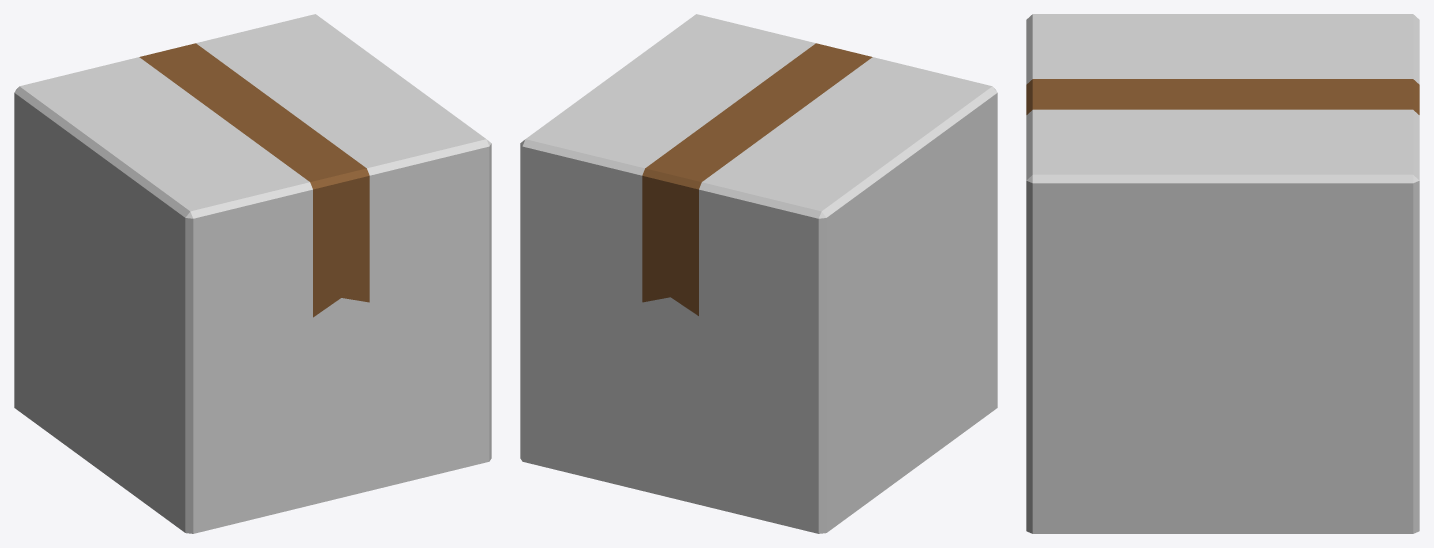
3 renders of one model, left to right at view 1: azimuth 30°, elevation 25°; view 2: azimuth 150°, elevation 25°; view 3: azimuth 270°, elevation 25°, orthographic. The views are drawn at different scales.
Visible parts, largest first — view 1: Box 1; view 2: Box 1; view 3: Box 1.
Part boxes in pixels (x1,y1,x2,y2): Box 1: [14, 14, 491, 533]; Box 1: [520, 14, 997, 533]; Box 1: [1026, 14, 1419, 533].
Size of the model in its own units: 20.68 by 20.68 by 20.68.
